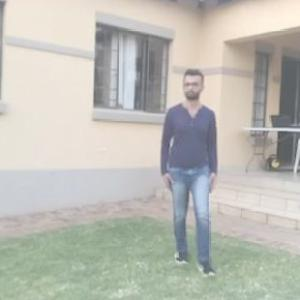follow: (157, 63, 220, 276)
